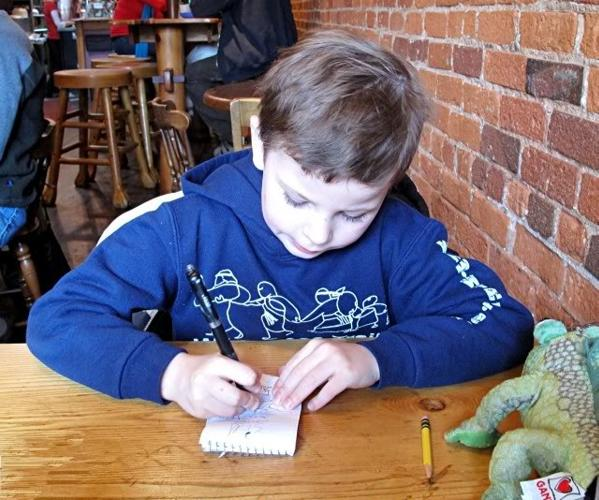person: (29, 34, 531, 424)
